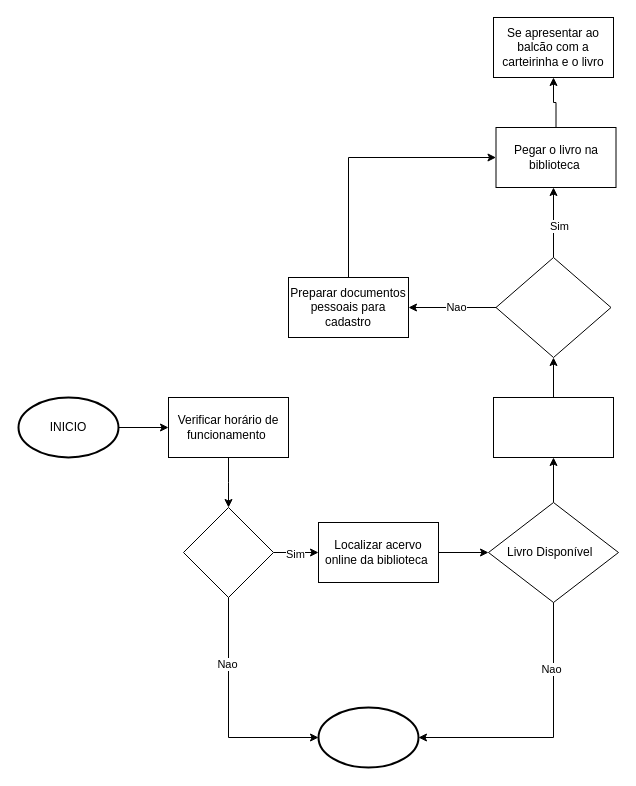
Image size: 636x786. Some labels were removed from this diagram. The centre of each missing label's shape, as x and y in pixels:
Está inscrito na biblioteca?: point (553, 307)
FIM: point (368, 737)
Horário Disponível: point (228, 552)
Localizar prateleira do livro: point (553, 427)
